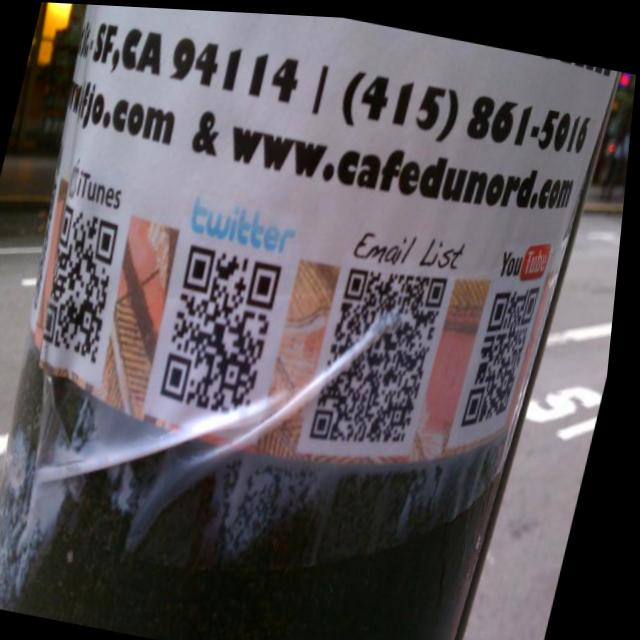qrcode: (318, 255, 454, 454), (162, 242, 290, 418), (38, 204, 135, 365), (470, 272, 547, 431)
